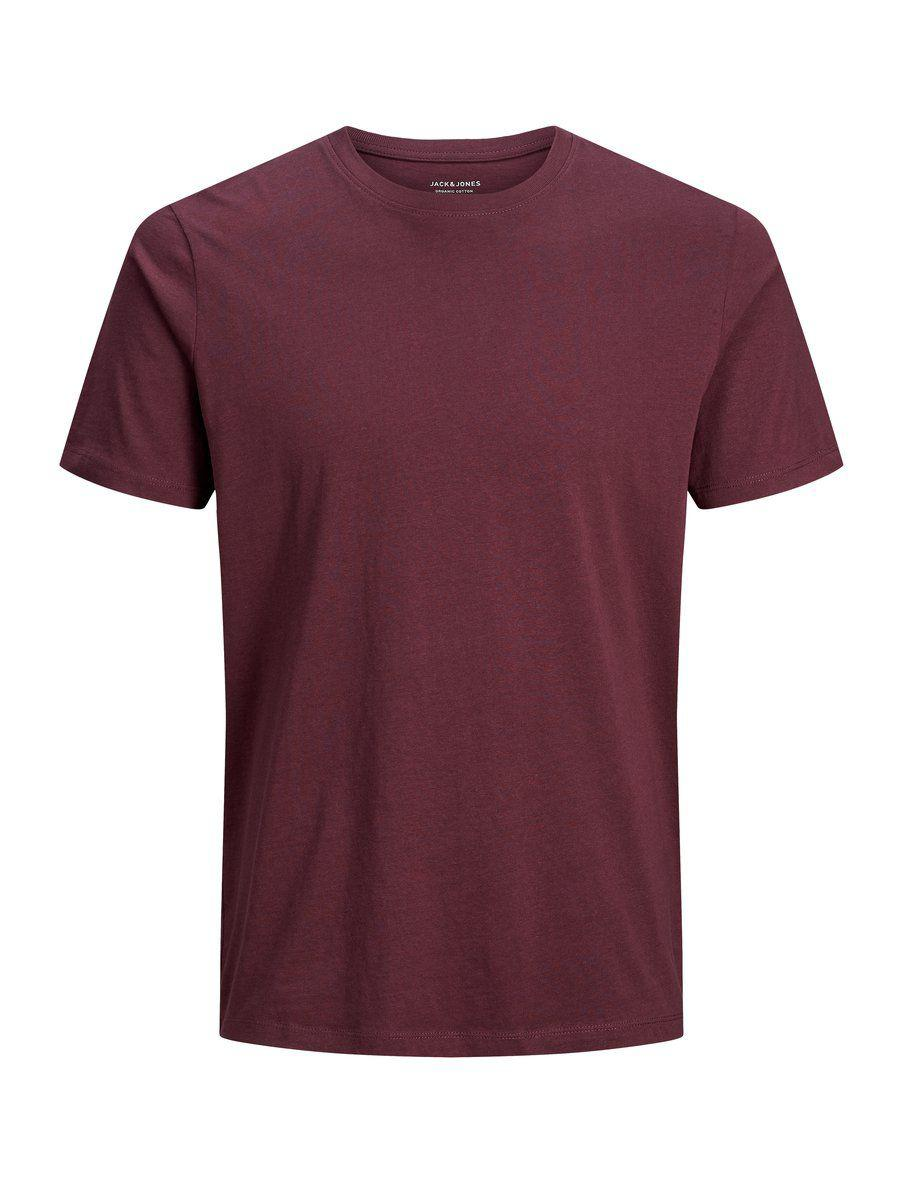teeshirt: (27, 105, 882, 1105)
